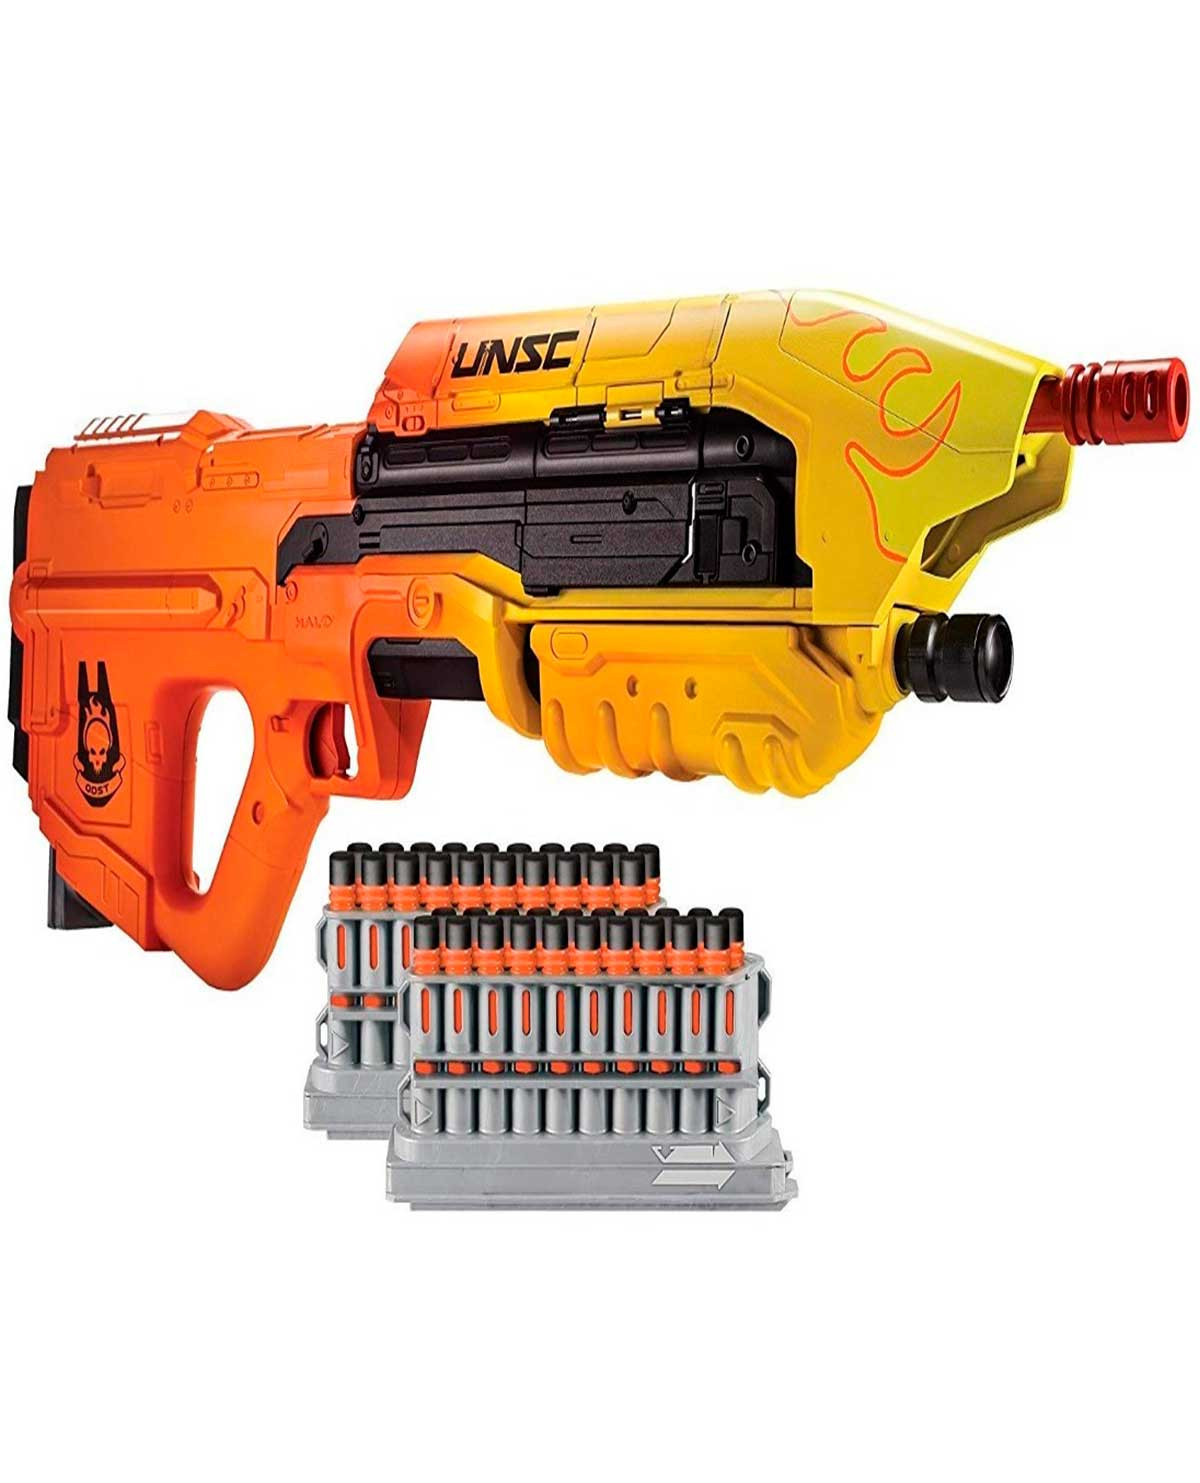Arma Falsa: (9, 280, 1184, 997)
